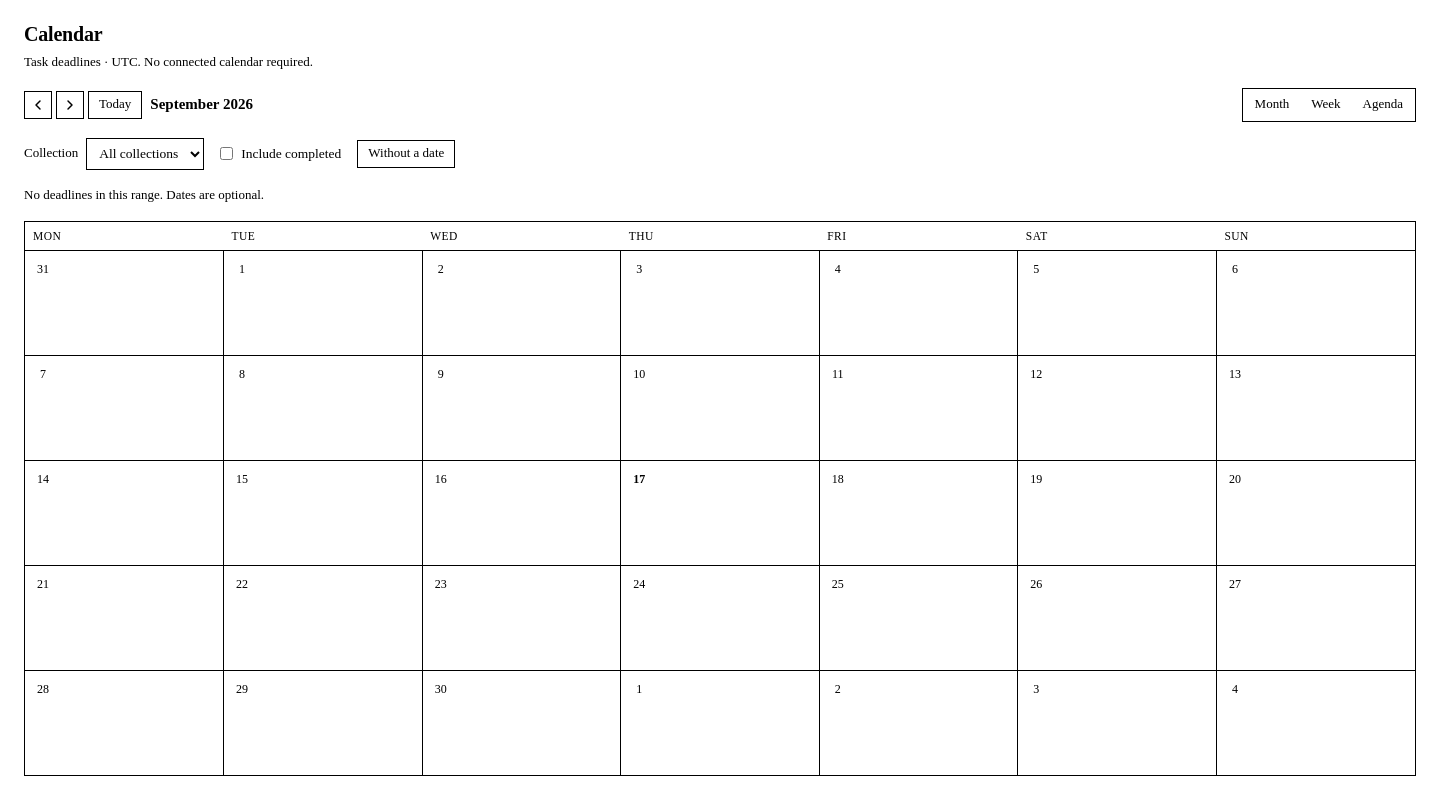
Test case: deadline calendar › moves ranges and collections through bounded read queries and offers an empty state
The width and height of the screenshot is (1440, 810).
Expected: the text "No deadlines in this range. Dates are optional." is shown, [24,187,264,202]
Step 1. Click the button named "Next month" → (70, 105), box [56,91,84,119]
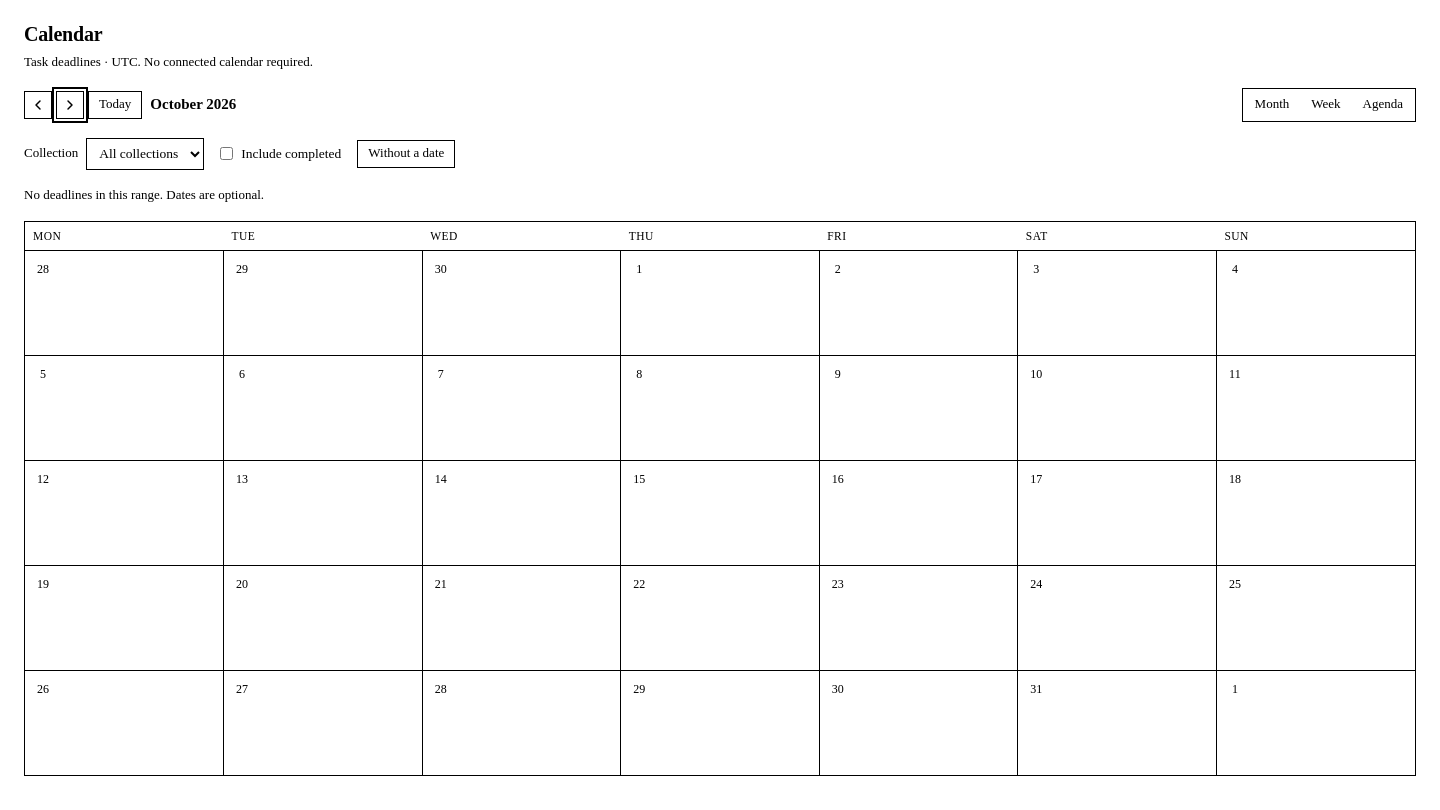
Step 2. Select "Later" in the dropdown labelled "Collection" → (145, 154), box [86,138,204,170]
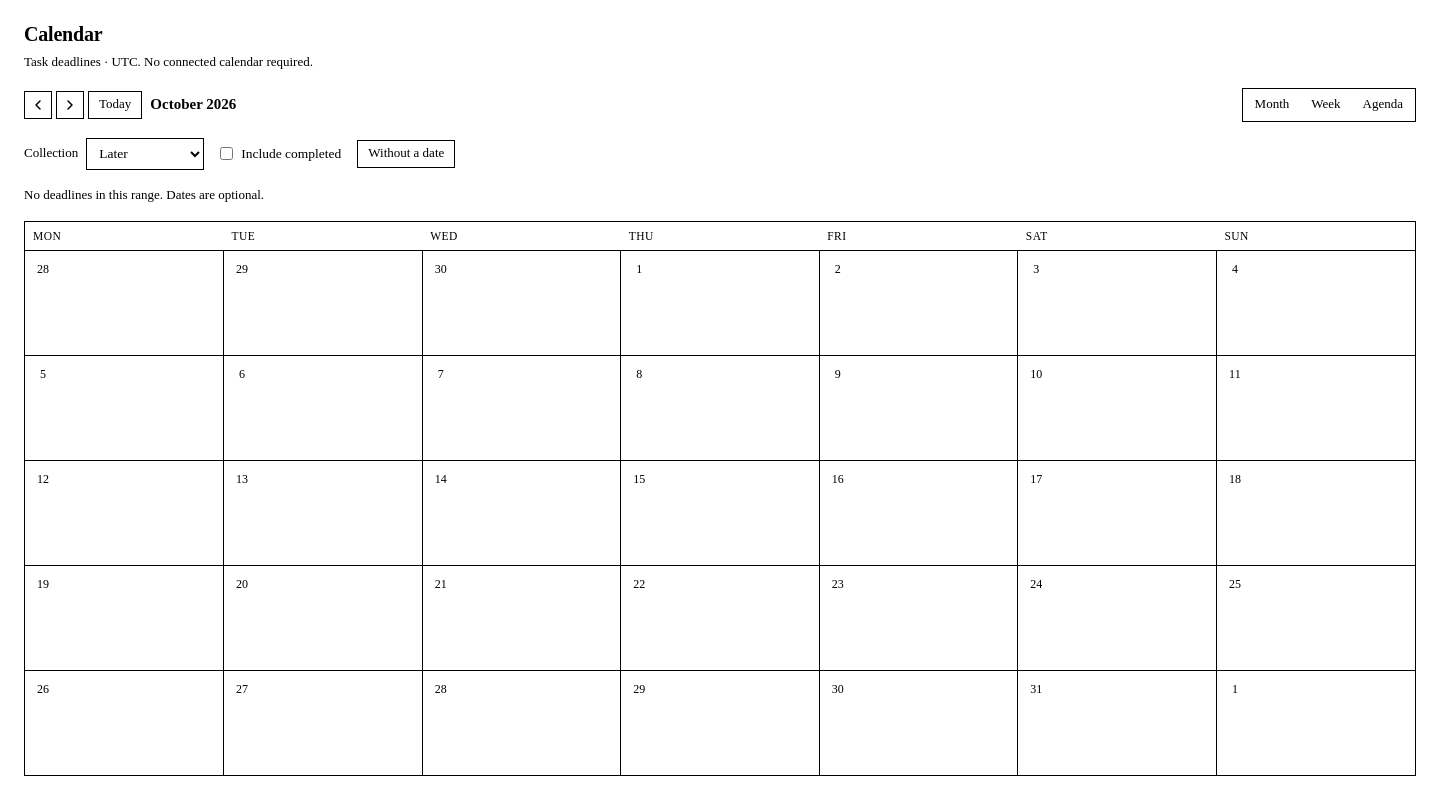
Step 3. Click the checkbox labelled "Include completed" → (227, 154), box [220,147,233,160]
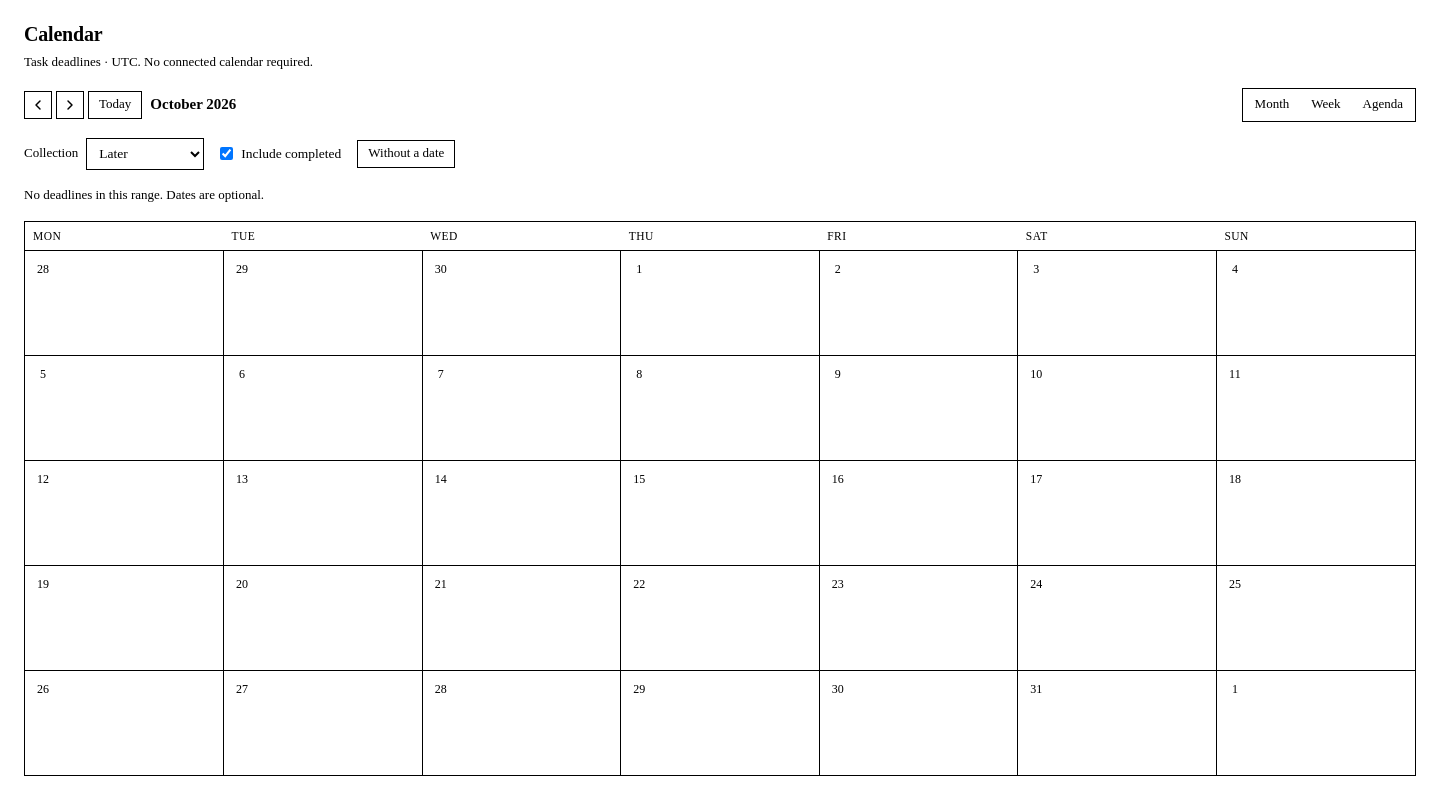
Step 4. Click the button "Without a date" → (406, 154), box [357,140,455,168]
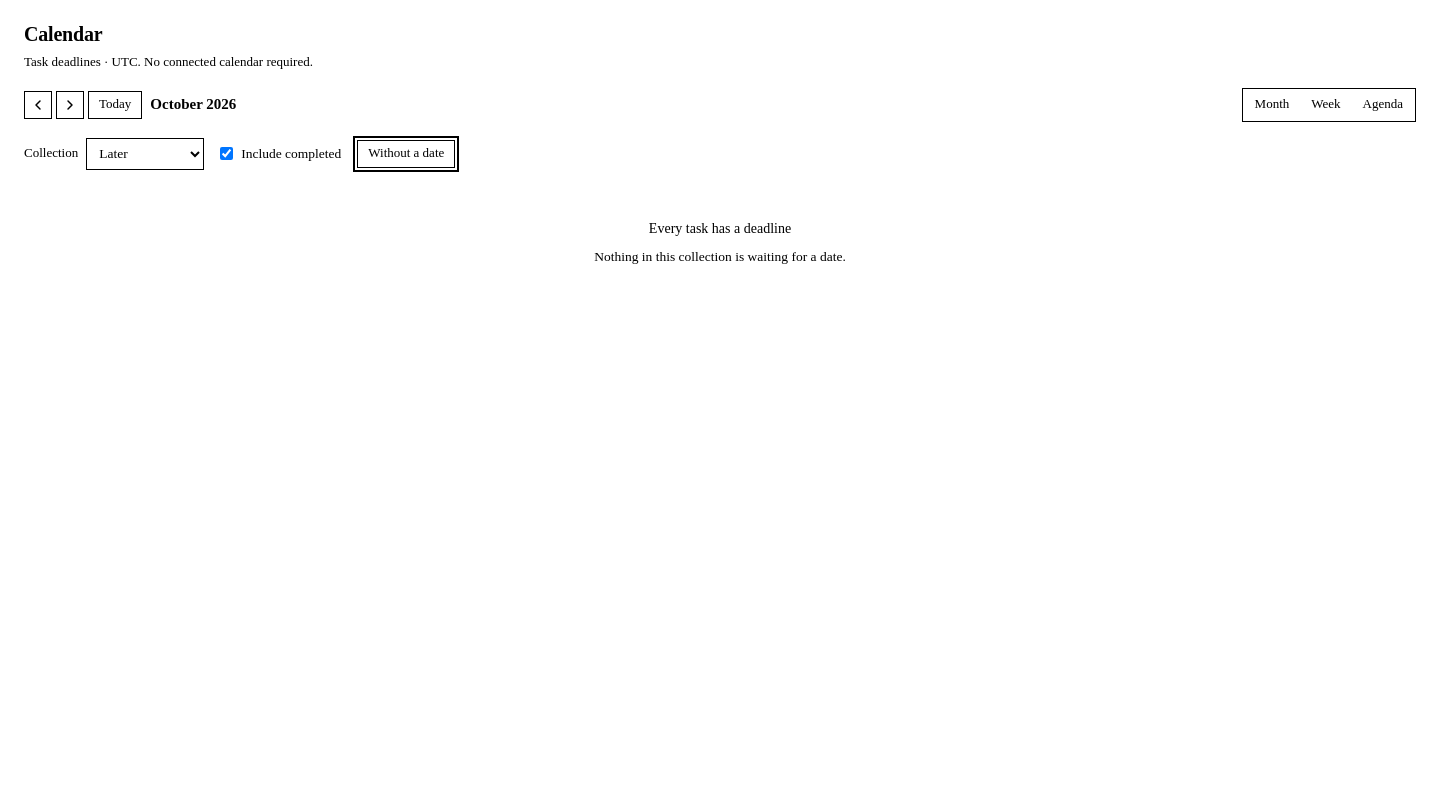
Result: the text "Every task has a deadline" is shown at [649,218,791,239]
